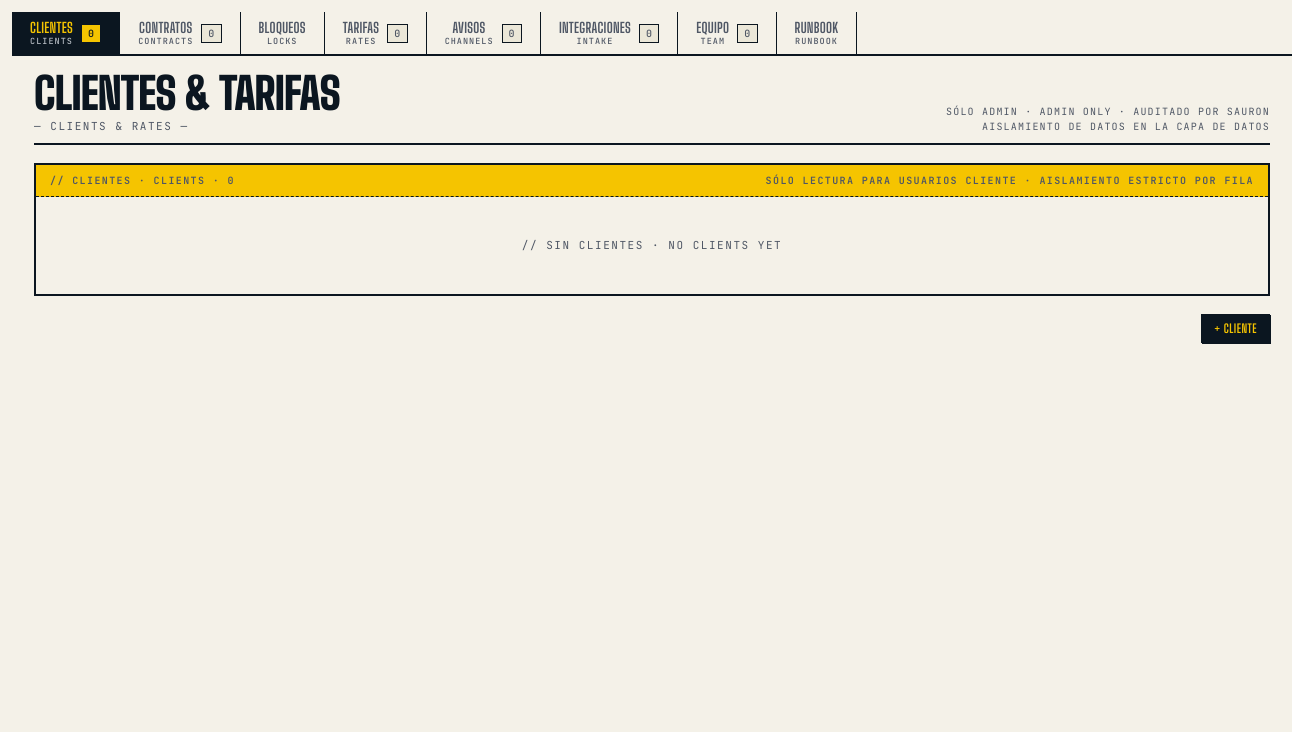
SettingsPage › switches tabs via the subbar (Clients → Rates)
This screenshot has width=1292, height=732.
Check: the text "Clientes" is shown, box [30, 21, 73, 35]
Check: the text "// sin clientes · no clients yet" is shown, box [522, 237, 782, 254]
Step 1. Click the text "Tarifas" → (361, 28), box [343, 21, 379, 35]
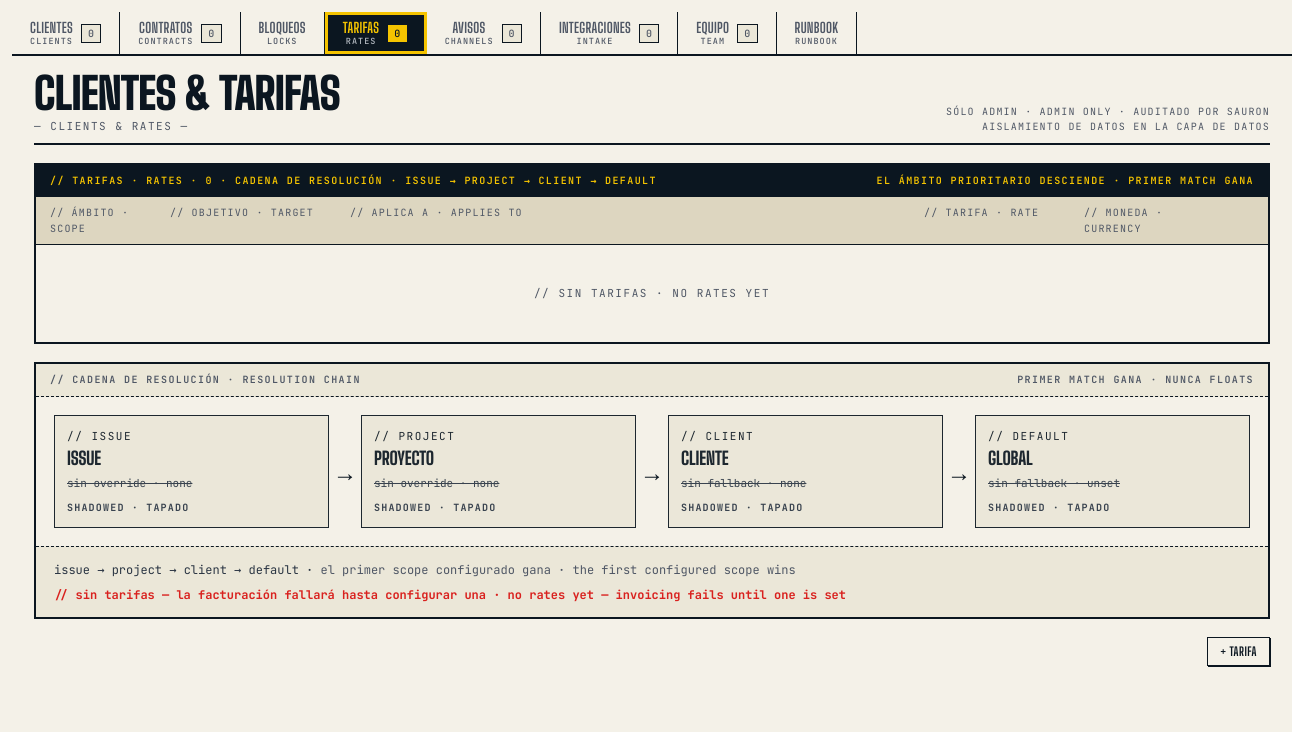
Check: the text "TARIFAS · RATES" is shown, box [50, 174, 205, 187]
